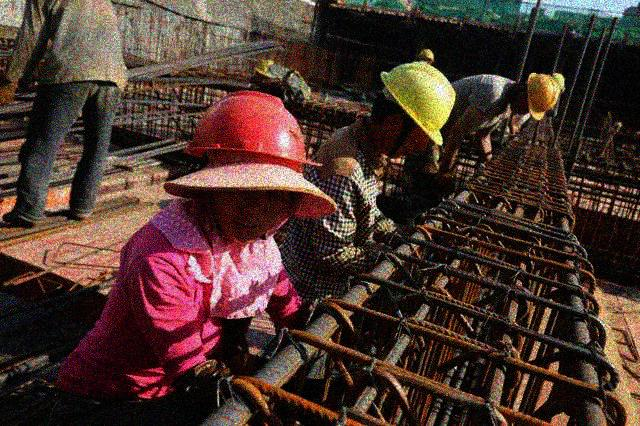helmet: (184, 90, 307, 244), (368, 63, 457, 163), (510, 72, 557, 121), (416, 46, 438, 67)
